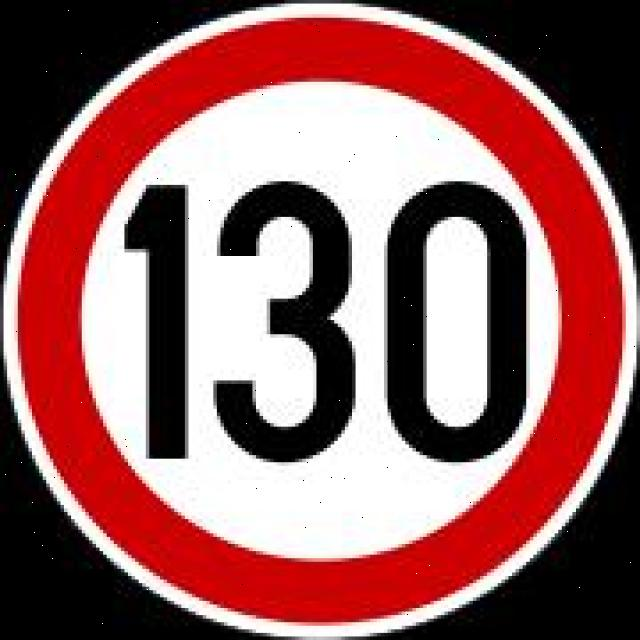speed limit 130: (1, 0, 640, 640)
